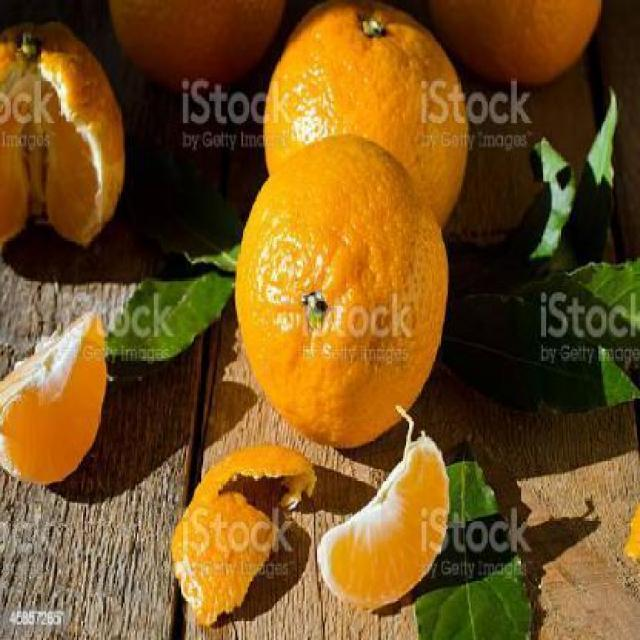Jeruk Sudah Matang: (234, 136, 450, 450), (264, 0, 470, 262), (109, 0, 285, 83)
